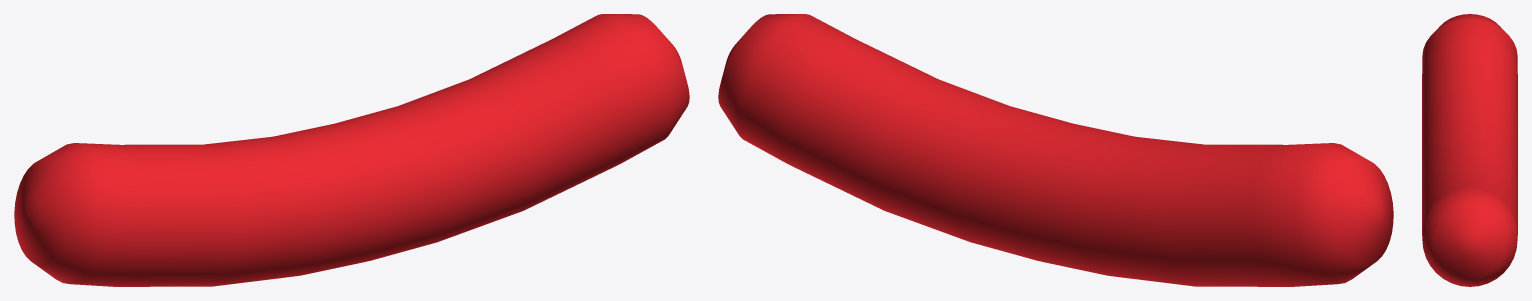
The model's file is sausage.fbx.
3 views of the same model, side by side, from view 1: azimuth 30°, elevation 25°; view 2: azimuth 150°, elevation 25°; view 3: azimuth 270°, elevation 25° (orthographic). The views are drawn at different scales.
Parts seen in each view (by area): view 1: #sausage; view 2: #sausage; view 3: #sausage.
Boxes of the visible parts, box(x1,y1,x2,y2) form: #sausage: box(14, 14, 689, 286); #sausage: box(718, 14, 1393, 286); #sausage: box(1422, 14, 1517, 286).
Bounding box in the file's own units: 311 × 79.11 × 58.91.
